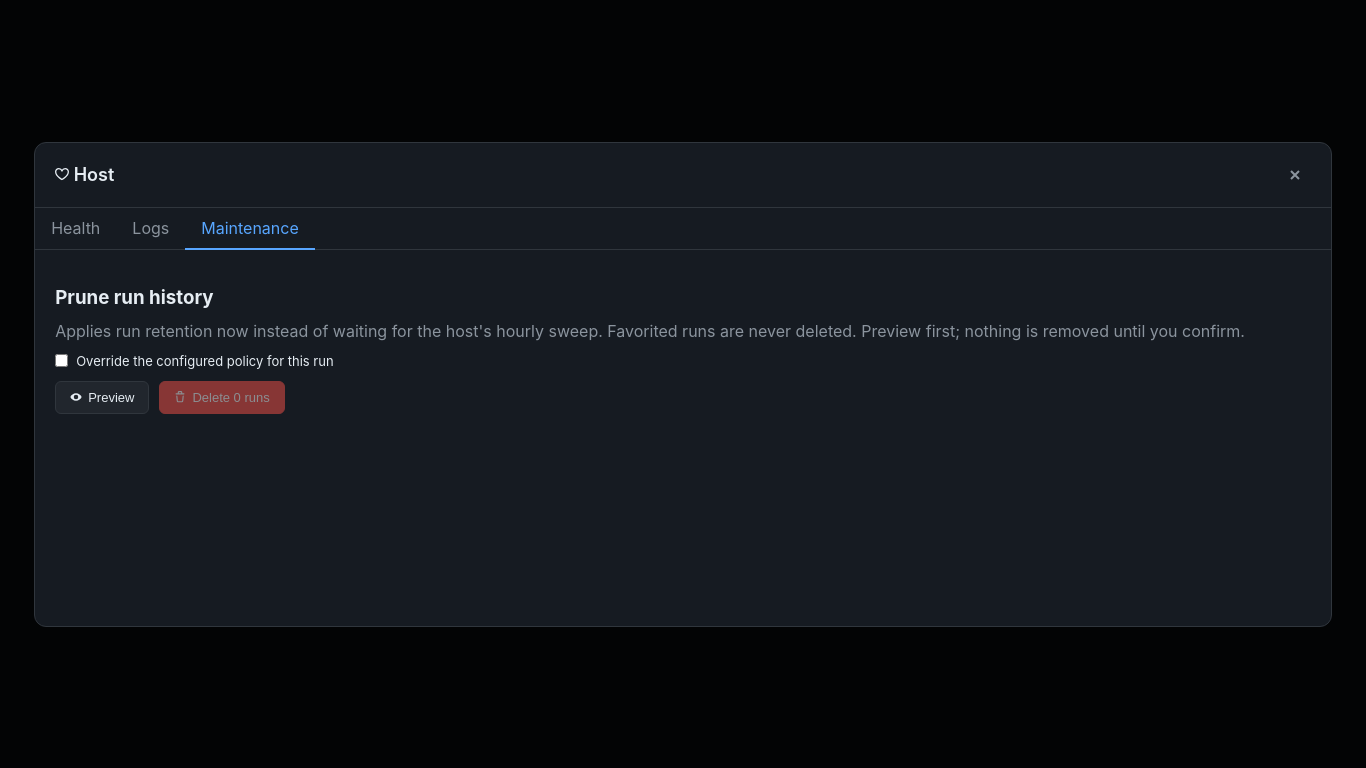
HostModal › maintenance: preview is mandatory, then delete applies and reports
Expected: the button "Delete 0 runs" is disabled, [159, 380, 285, 414]
Click the button "Preview" at [102, 397], box [55, 380, 150, 414]
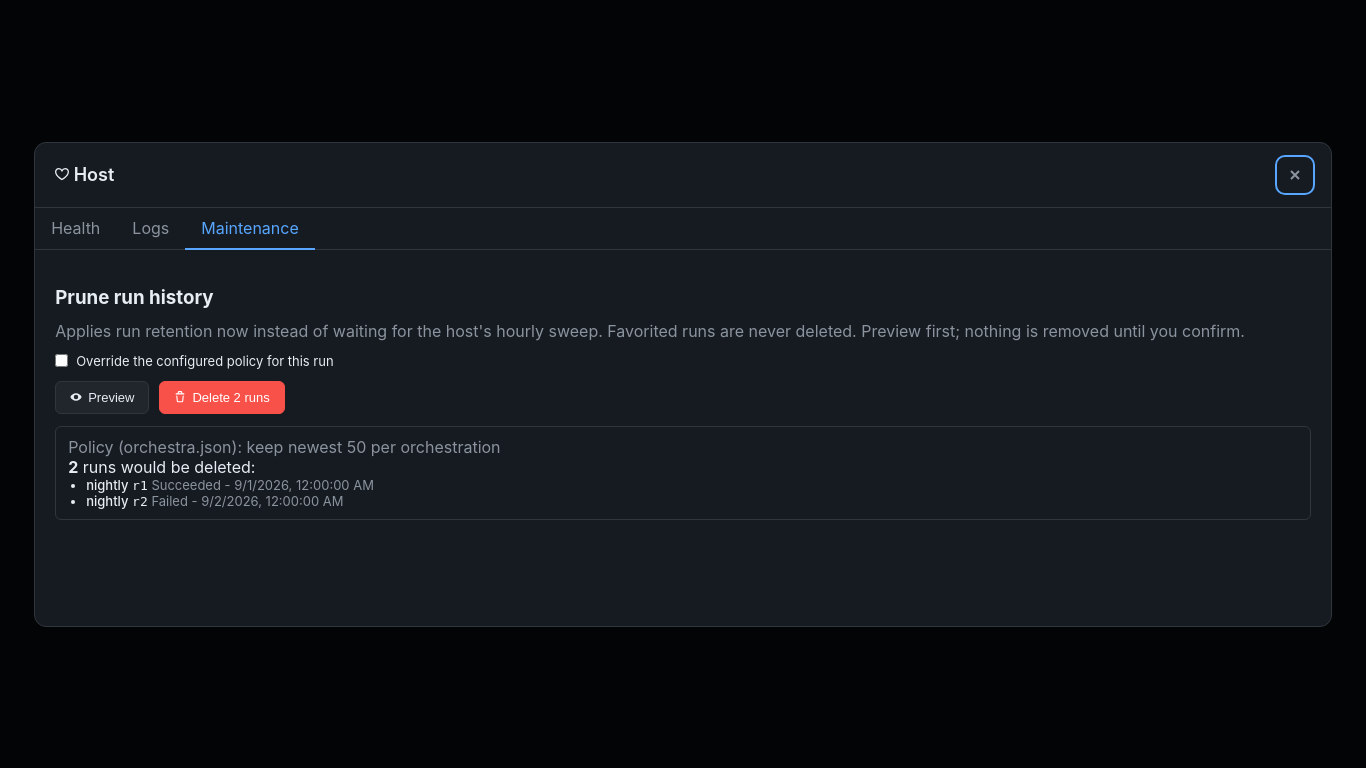
Result: the text with test id "prune-policy" shows "orchestra.json" at [124, 436, 232, 456]
Result: the element with test id "prune-preview" shows "2 runs would be deleted" at [55, 426, 1311, 520]
Result: the button "Delete 2 runs" is enabled
Click the button "Delete 2 runs" at [222, 397], box [159, 380, 285, 414]
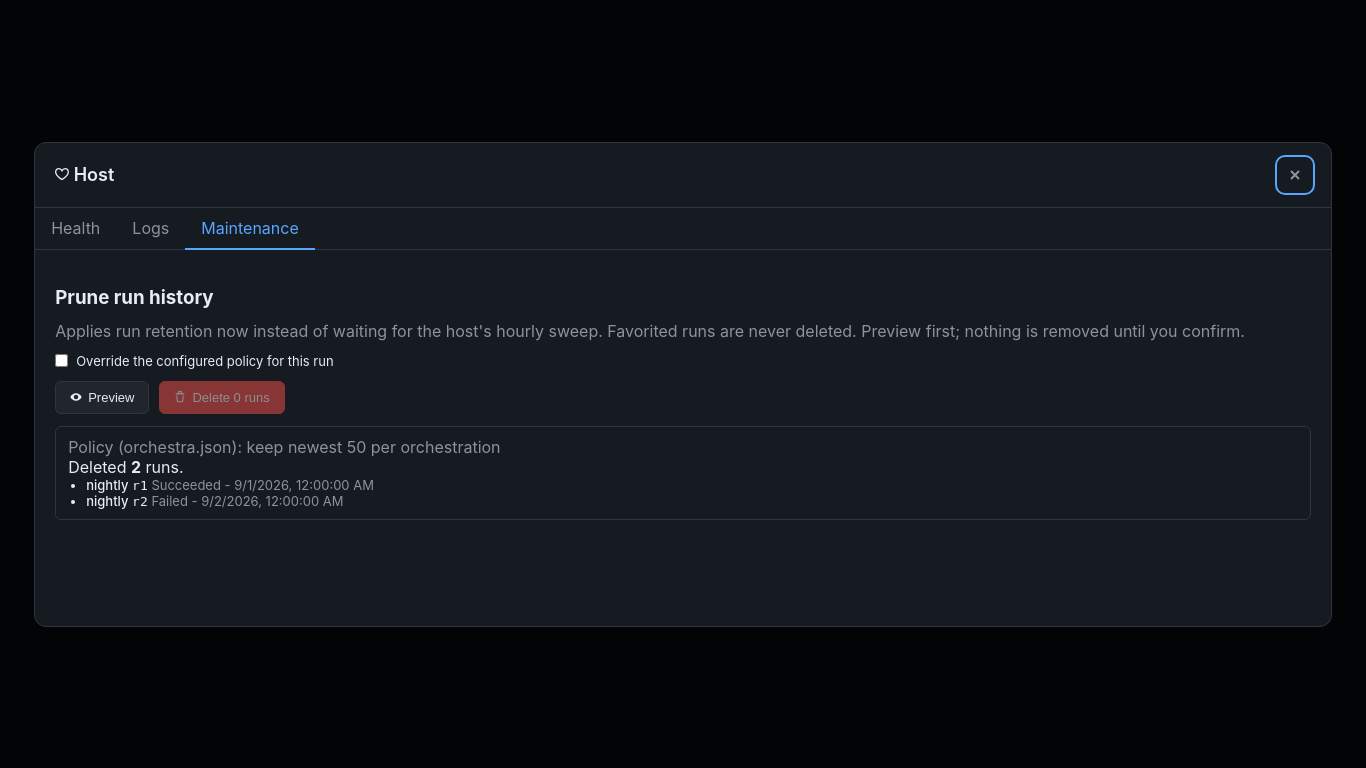
Result: the element with test id "prune-result" shows "Deleted 2 runs" at [55, 426, 1311, 520]
